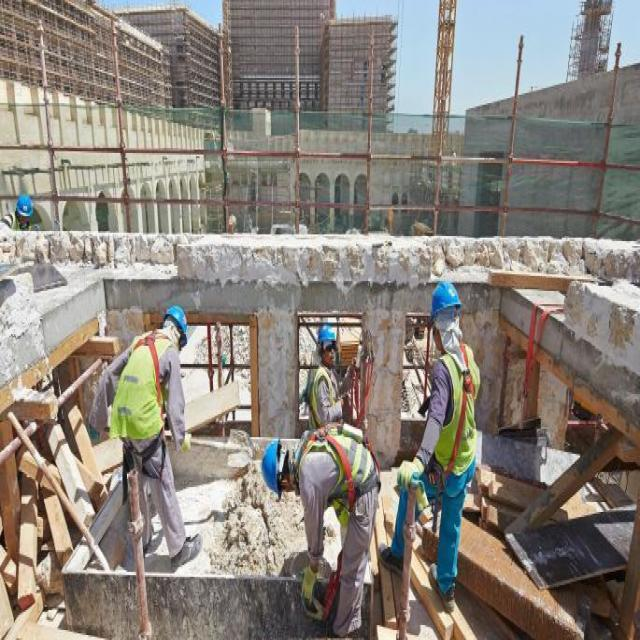boots: (428, 563, 455, 612), (170, 533, 202, 571), (379, 546, 404, 574)
gloves: (299, 556, 321, 600), (396, 458, 424, 490), (179, 432, 192, 452)
hard-hat: (261, 440, 283, 495), (430, 280, 462, 316), (163, 305, 188, 343), (317, 325, 335, 341)
person: (385, 280, 481, 612), (88, 304, 203, 572), (263, 419, 381, 637), (301, 324, 346, 430)
ppe-suit: (88, 305, 203, 571), (90, 327, 194, 564), (391, 338, 481, 606), (292, 420, 382, 636)
